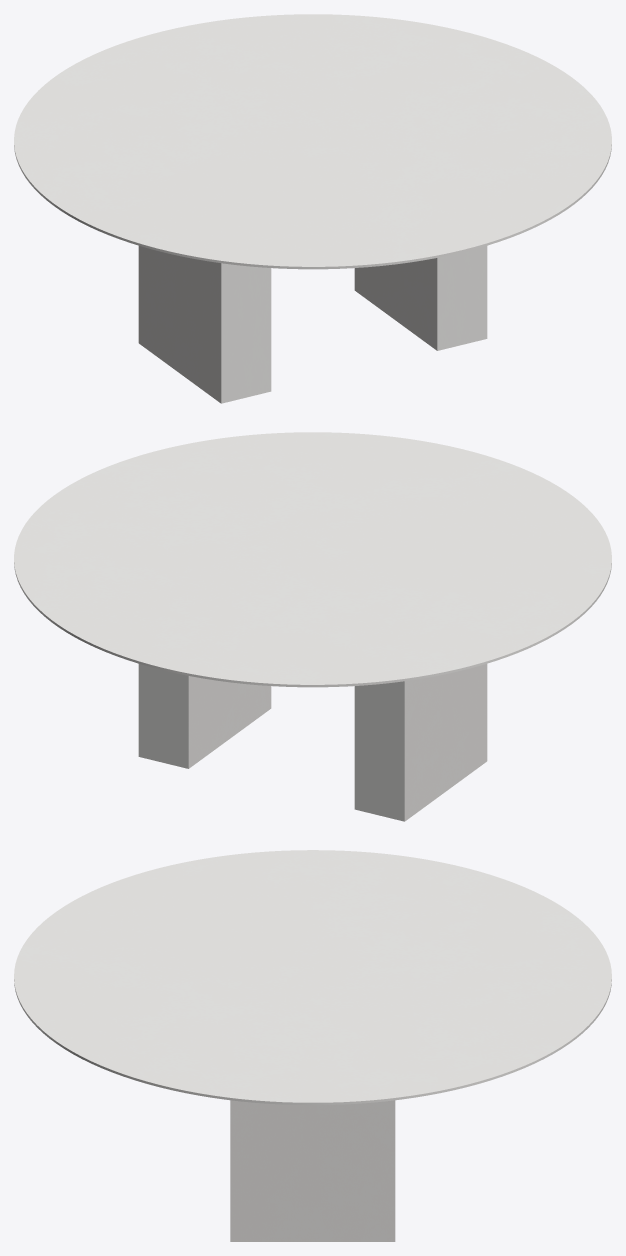
The model's file is purewhite_round_facet_ridge.glb.
3 views of the same model, one above another, from view 1: azimuth 30°, elevation 25°; view 2: azimuth 150°, elevation 25°; view 3: azimuth 270°, elevation 25° (orthographic).
Visible parts, largest first — view 1: facet_round, ridge; view 2: facet_round, ridge; view 3: facet_round, ridge.
Boxes of the visible parts, x1,y1,x2,y2 form: facet_round: (14, 14, 611, 269); ridge: (138, 246, 487, 403); facet_round: (14, 432, 611, 687); ridge: (138, 664, 487, 821); facet_round: (14, 850, 611, 1105); ridge: (230, 1100, 395, 1241).
Bounding box in the file's own units: 6.75 × 2.5 × 6.75.
1 material, 1 textured.
